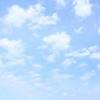sky: (1, 1, 100, 98)
